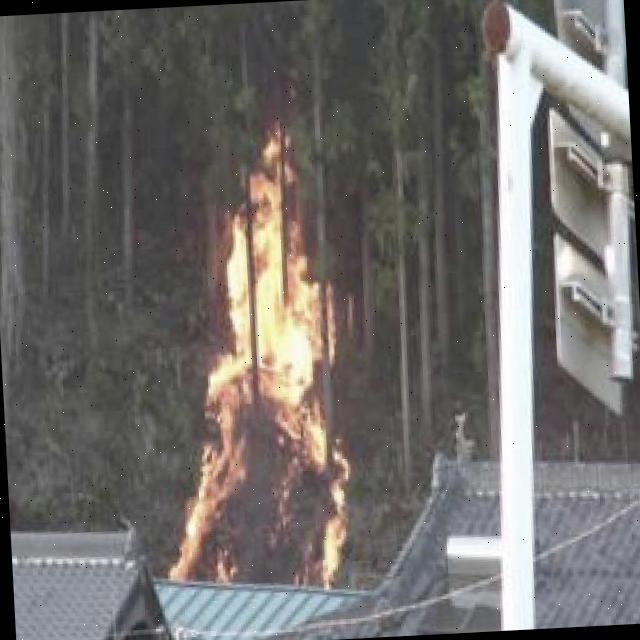fire: (157, 134, 358, 596)
